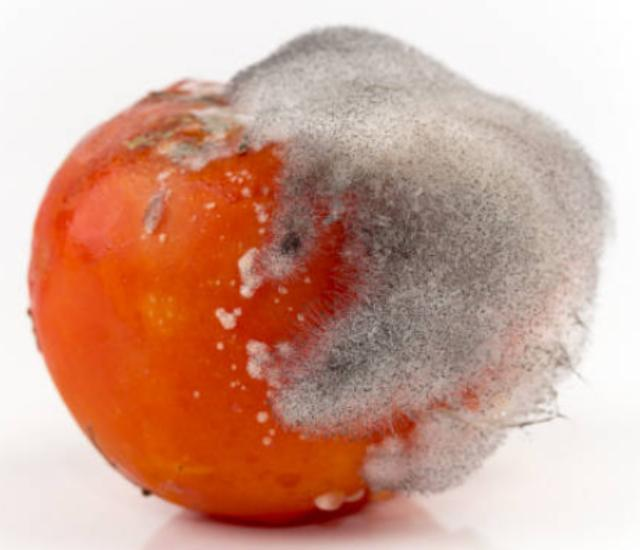defect: (15, 20, 619, 533)
